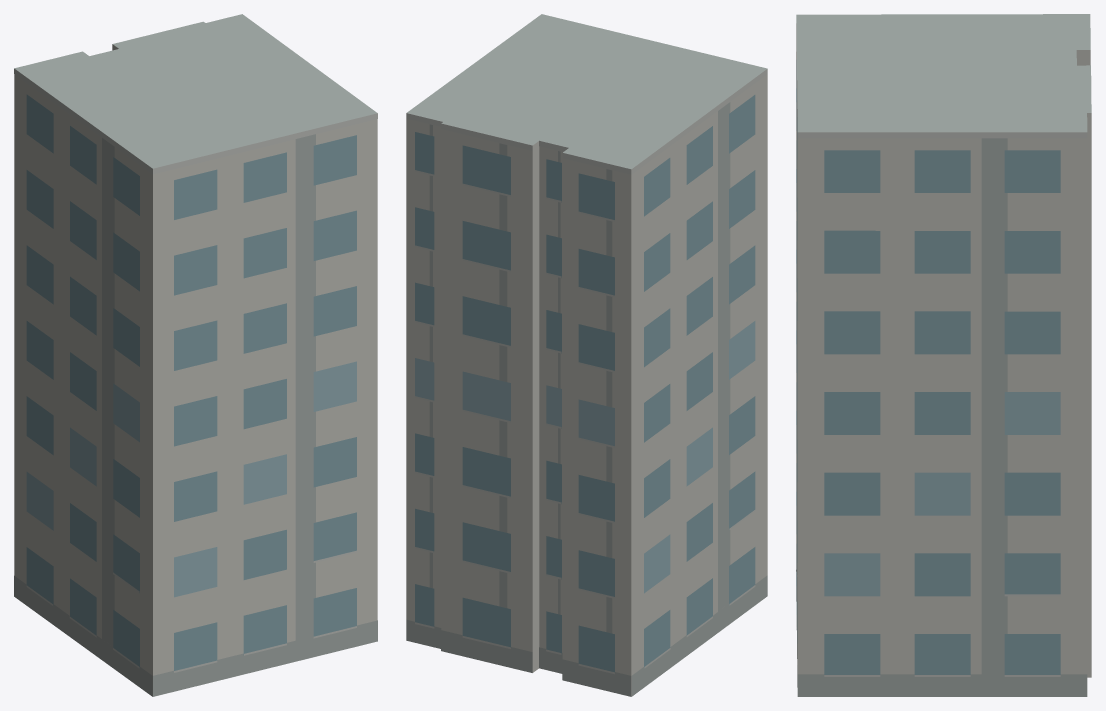
File: survey-upis-32946183.glb
3 views of the same model, side by side, from view 1: azimuth 30°, elevation 25°; view 2: azimuth 150°, elevation 25°; view 3: azimuth 270°, elevation 25° (orthographic). The views are drawn at different scales.
Visible parts, largest first — view 1: survey-upis-32946183.tmp; view 2: survey-upis-32946183.tmp; view 3: survey-upis-32946183.tmp.
Part boxes in pixels (x1,y1,x2,y2): survey-upis-32946183.tmp: [14, 14, 377, 696]; survey-upis-32946183.tmp: [406, 14, 767, 696]; survey-upis-32946183.tmp: [796, 14, 1091, 696].
Size of the model in its own units: 10.27 by 22.81 by 10.83.
